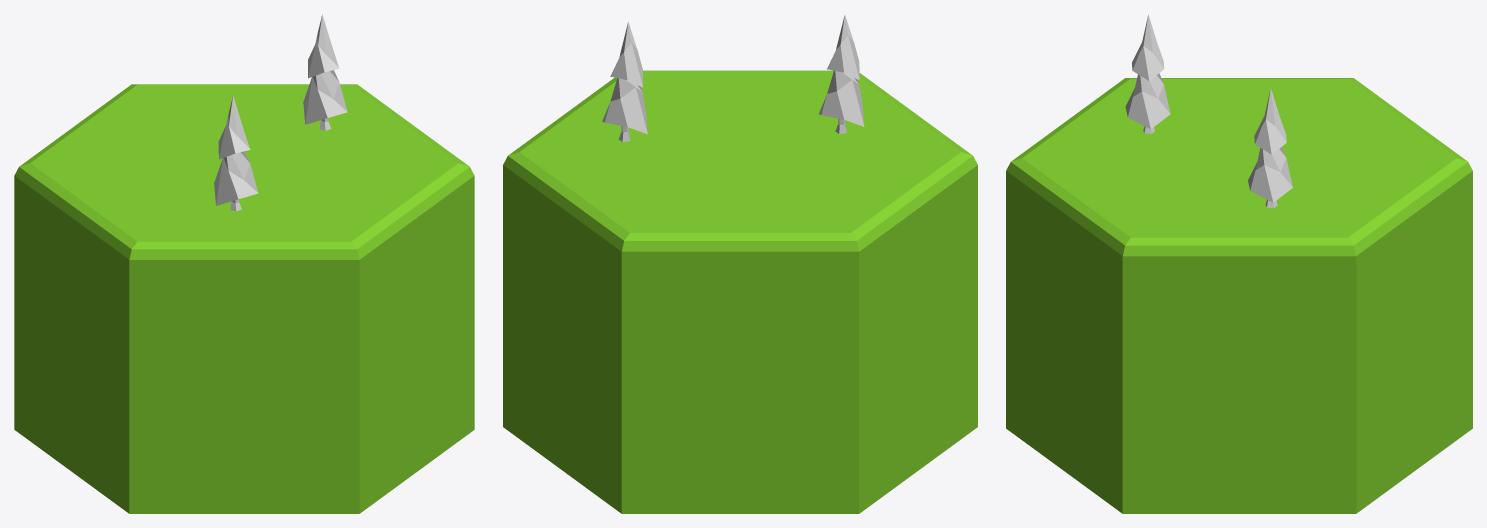
Rendered from Hex Tile Grass 08.glb.
3 views of the same model, side by side, from view 1: azimuth 30°, elevation 25°; view 2: azimuth 150°, elevation 25°; view 3: azimuth 270°, elevation 25° (orthographic). The views are drawn at different scales.
Parts seen in each view (by area): view 1: SpruceTree2; view 2: SpruceTree2; view 3: SpruceTree2.
Part boxes in pixels (bbox=[...]): SpruceTree2: bbox=[14, 14, 474, 513]; SpruceTree2: bbox=[503, 14, 977, 513]; SpruceTree2: bbox=[1006, 14, 1472, 513].
Bounding box in the file's own units: 1.73 × 1.83 × 2.
